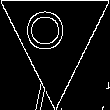O_E: (33, 15, 77, 58)
